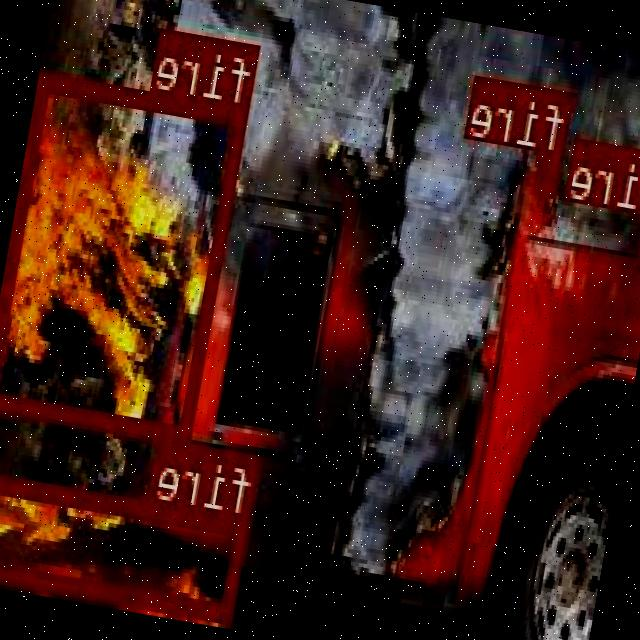fire: (0, 71, 251, 440), (0, 470, 251, 621), (537, 150, 563, 192)
